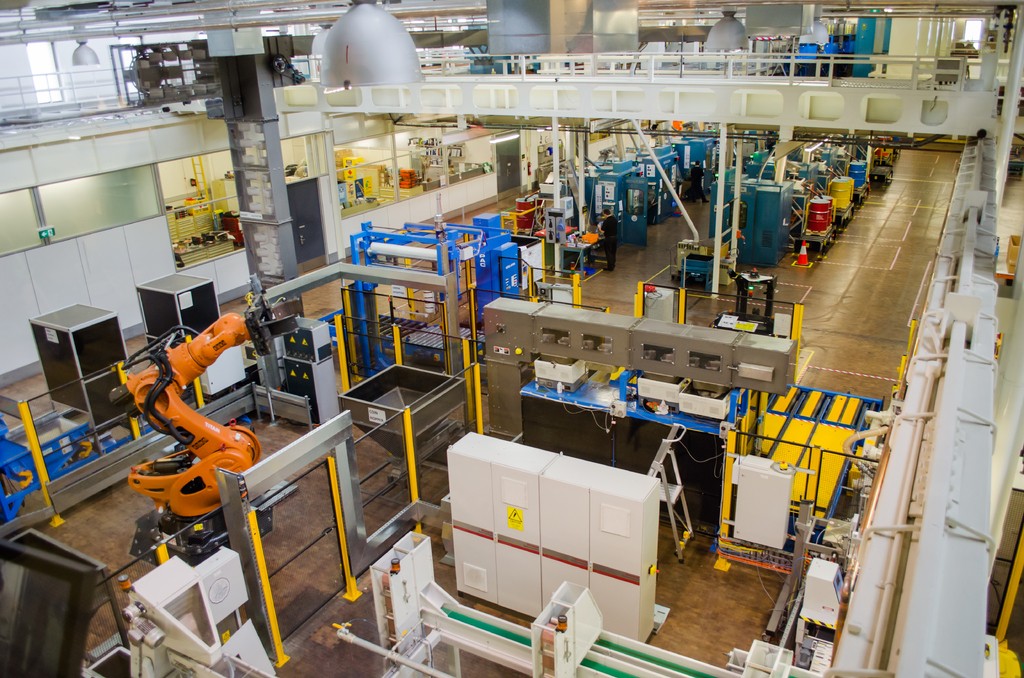Person: (598, 207, 618, 271)
